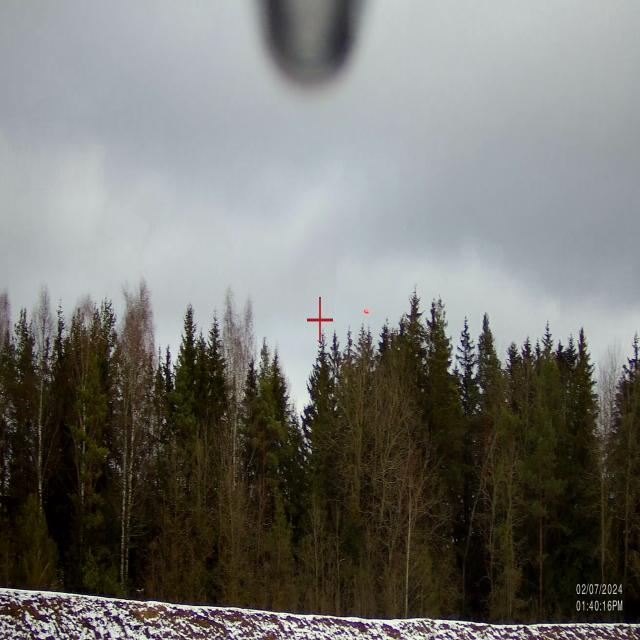entire: (357, 304, 371, 322)
